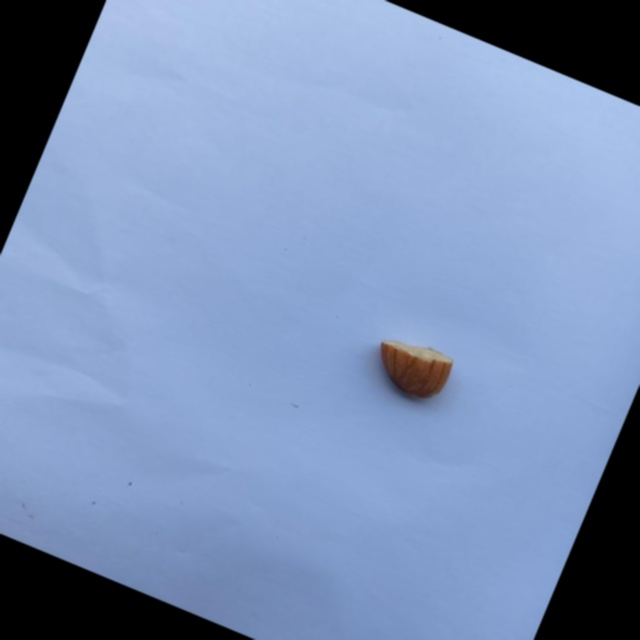grade4: (357, 323, 465, 415)
